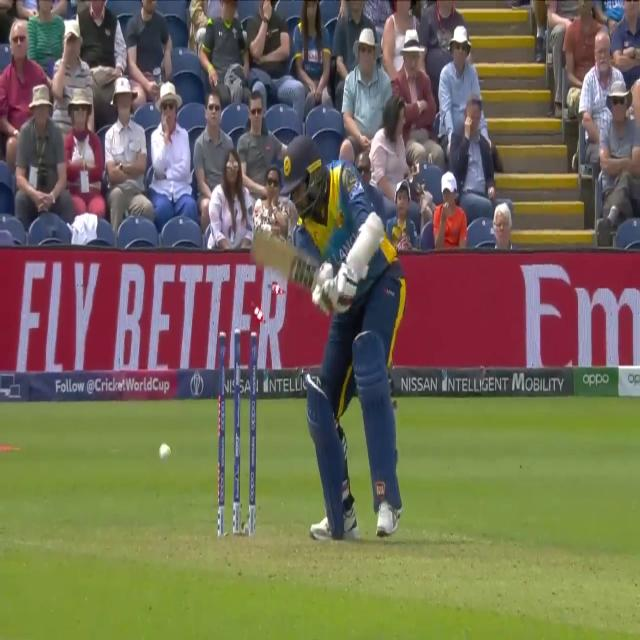ball: (158, 436, 176, 474)
